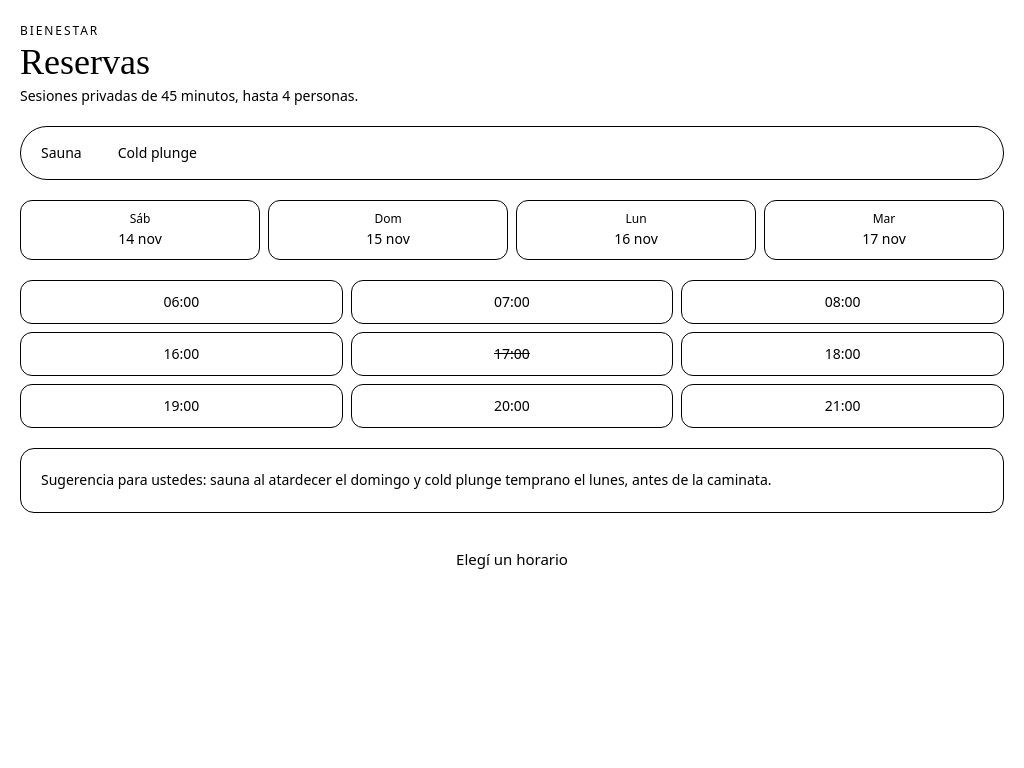
Test: confirmar una reserva › la reserva confirmada aparece en la agenda de recepción
Click the button "16:00". click: (181, 354)
box: [20, 332, 343, 376]
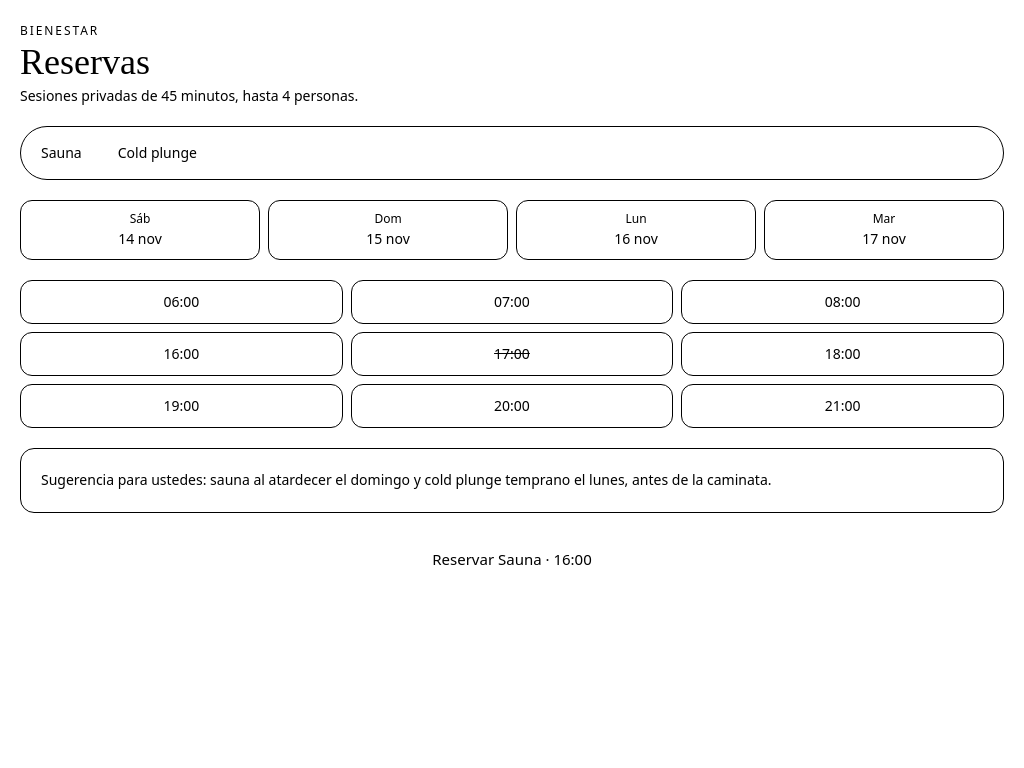
Click the button "Reservar Sauna · 16:00". click: (512, 559)
box: [20, 533, 1004, 585]
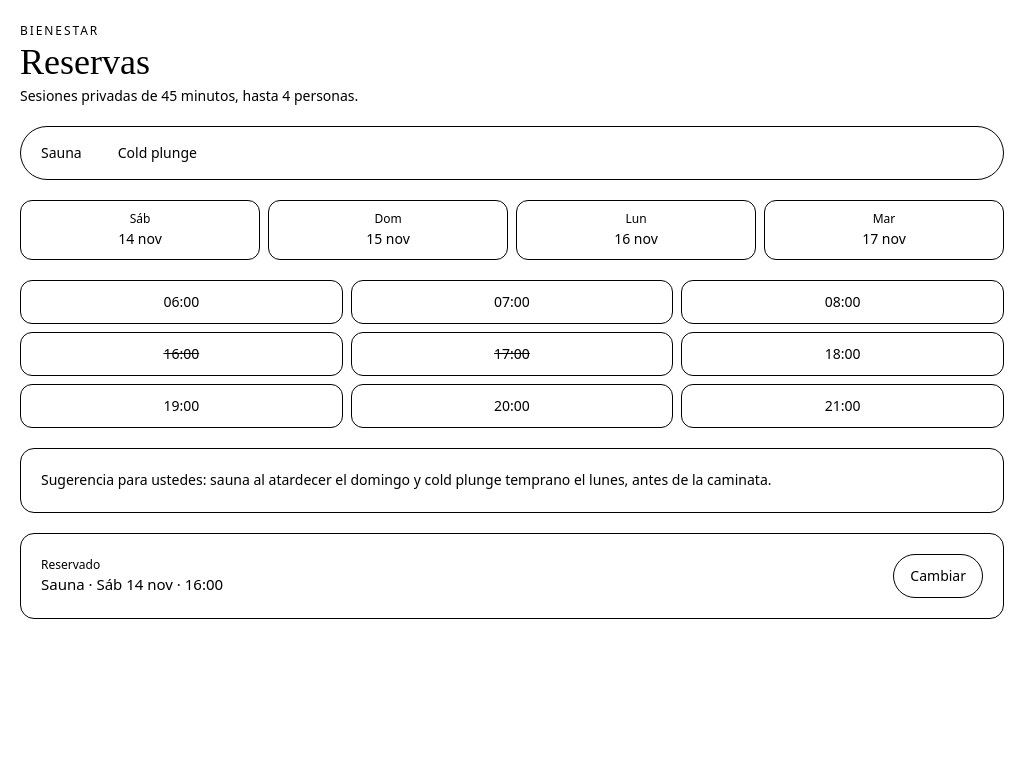
Result: the text "Reservado" is shown at [41, 556, 100, 573]
